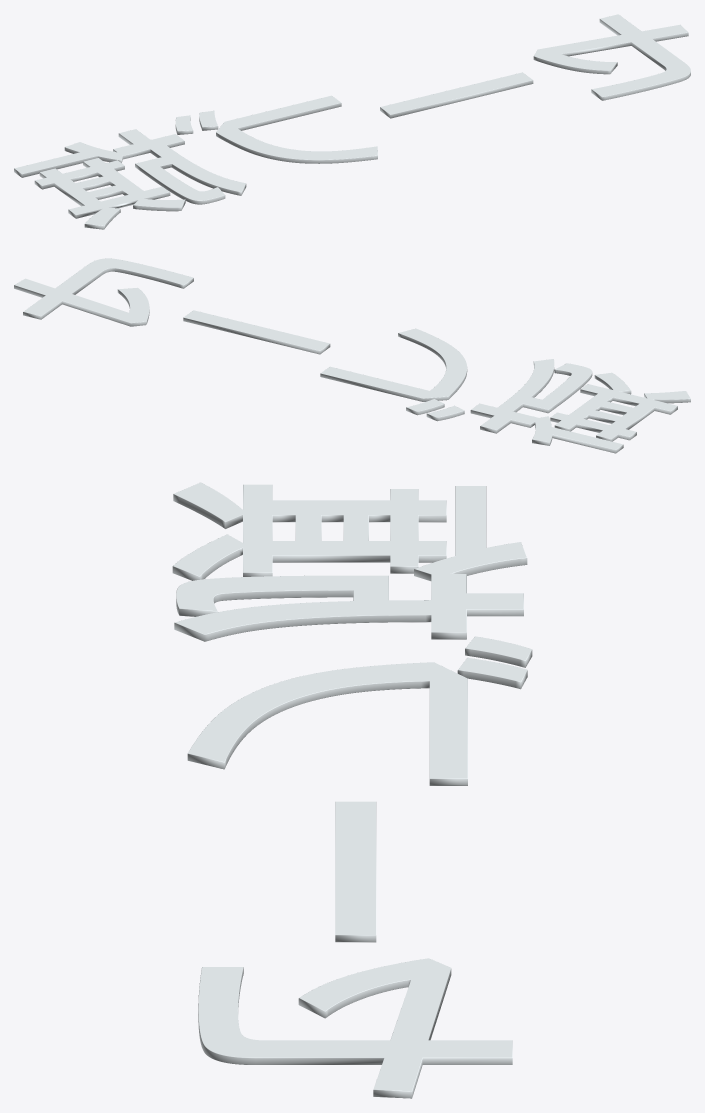
The model's file is stage1_save_flag_name.obj.
3 renders of one model, top to bottom at view 1: azimuth 30°, elevation 25°; view 2: azimuth 150°, elevation 25°; view 3: azimuth 270°, elevation 25°, orthographic. The views are drawn at different scales.
Parts seen in each view (by area): view 1: stage1_save_flag_name; view 2: stage1_save_flag_name; view 3: stage1_save_flag_name.
Part boxes in pixels (box(x1,y1,x2,y2)): stage1_save_flag_name: box(14, 14, 690, 229); stage1_save_flag_name: box(14, 258, 690, 453); stage1_save_flag_name: box(172, 482, 532, 1098).
Size of the model in its own units: 2.75 by 0.0154 by 0.6866.
Materials: 1 (1 with a texture image).
